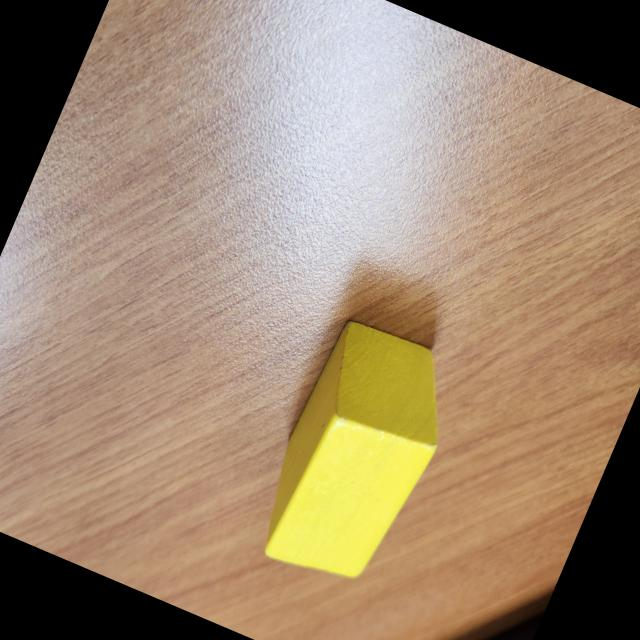yellow: (235, 307, 471, 601)
